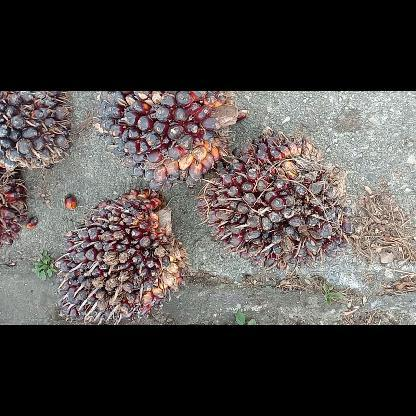TBS mentah: (196, 125, 352, 269), (55, 190, 188, 324), (96, 91, 244, 189), (0, 90, 73, 170)
